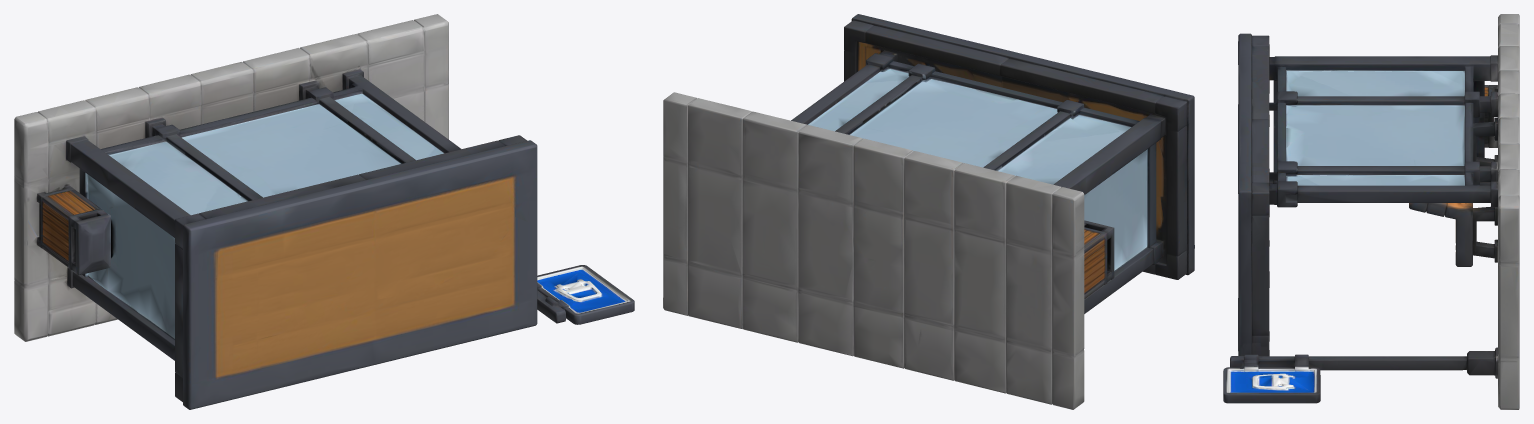
Rendered from avtobusnaya_ostanovka.glb.
3 views of the same model, side by side, from view 1: azimuth 30°, elevation 25°; view 2: azimuth 150°, elevation 25°; view 3: azimuth 270°, elevation 25° (orthographic). The views are drawn at different scales.
Visible parts, largest first — view 1: avtobusnaya_ostanovka; view 2: avtobusnaya_ostanovka; view 3: avtobusnaya_ostanovka.
Boxes of the visible parts, bbox=[...] form: avtobusnaya_ostanovka: bbox=[14, 14, 634, 409]; avtobusnaya_ostanovka: bbox=[663, 14, 1194, 409]; avtobusnaya_ostanovka: bbox=[1223, 14, 1519, 409].
Bounding box in the file's own units: 4.9 × 2.2 × 2.9.
1 material, 1 textured.
